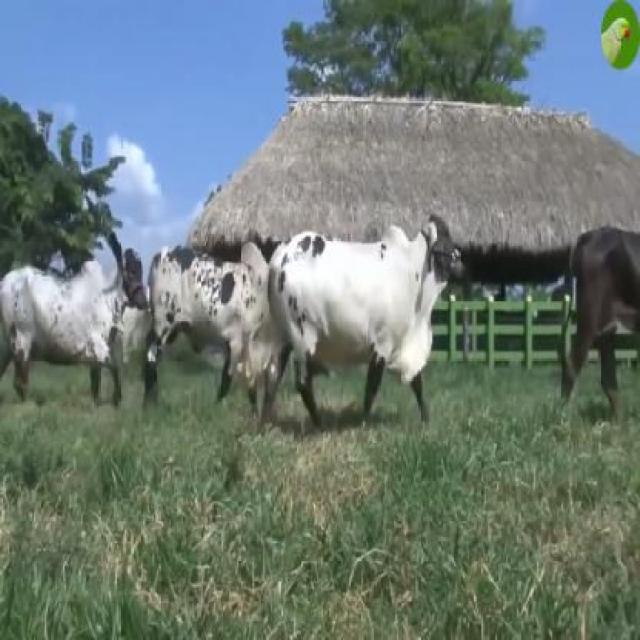Cow: (269, 209, 465, 420)
